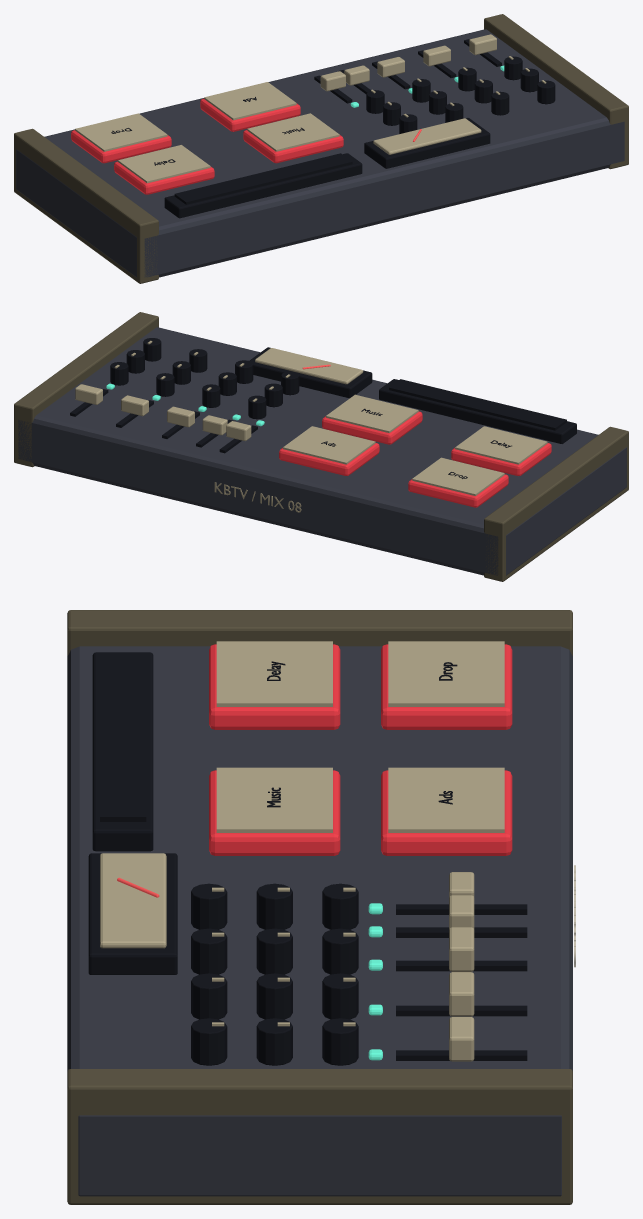
The model's file is soundboard.glb.
3 views of the same model, one above another, from view 1: azimuth 30°, elevation 25°; view 2: azimuth 150°, elevation 25°; view 3: azimuth 270°, elevation 25° (orthographic). The views are drawn at different scales.
Parts seen in each view (by area): view 1: soundboard, ScreenFace, BtnLamp_Drop, BtnLamp_Music, BtnLamp_Delay, BtnLamp_Ads, Button_Delay, Button_Music, Button_Ads, Button_Drop, FaderCap_1, FaderCap_2 (+13 smaller); view 2: soundboard, ScreenFace, BtnLamp_Ads, BtnLamp_Drop, BtnLamp_Delay, BtnLamp_Music, Button_Drop, Button_Music, Button_Delay, Button_Ads, FaderCap_1, FaderCap_2 (+15 smaller); view 3: soundboard, ScreenFace, BtnLamp_Ads, BtnLamp_Delay, BtnLamp_Drop, BtnLamp_Music, Button_Ads, Button_Drop, Button_Music, Button_Delay, Knob_0_2, Knob_0_1 (+14 smaller).
Boxes of the visible parts, box(x1,y1,x2,y2) form: soundboard: box(14, 14, 628, 283); ScreenFace: box(174, 153, 352, 204); BtnLamp_Drop: box(75, 113, 167, 151); BtnLamp_Music: box(247, 113, 339, 151); BtnLamp_Delay: box(118, 145, 210, 183); BtnLamp_Ads: box(204, 82, 296, 120); Button_Delay: box(114, 161, 214, 194); Button_Music: box(243, 130, 343, 163); Button_Ads: box(200, 98, 300, 131); Button_Drop: box(71, 130, 171, 163); FaderCap_1: box(423, 45, 450, 66); FaderCap_2: box(377, 57, 404, 77); soundboard: box(14, 312, 628, 581); ScreenFace: box(389, 379, 566, 430); BtnLamp_Ads: box(283, 426, 375, 464); BtnLamp_Drop: box(412, 457, 504, 495); BtnLamp_Delay: box(455, 426, 547, 464); BtnLamp_Music: box(326, 394, 418, 432); Button_Drop: box(408, 474, 508, 507); Button_Music: box(322, 411, 422, 444); Button_Delay: box(451, 443, 551, 475); Button_Ads: box(279, 443, 379, 475); FaderCap_1: box(121, 395, 148, 416); FaderCap_2: box(167, 406, 194, 427); soundboard: box(67, 610, 575, 1204); ScreenFace: box(100, 654, 146, 821); BtnLamp_Ads: box(388, 767, 504, 832); BtnLamp_Delay: box(216, 641, 332, 706); BtnLamp_Drop: box(388, 641, 504, 706); BtnLamp_Music: box(216, 767, 332, 832); Button_Ads: box(381, 770, 512, 855); Button_Drop: box(381, 644, 512, 729); Button_Music: box(209, 770, 340, 855); Button_Delay: box(209, 644, 340, 729); Knob_0_2: box(322, 1018, 358, 1065); Knob_0_1: box(256, 1018, 292, 1065).
Bounding box in the file's own units: 1.12 × 0.1485 × 0.5025.
